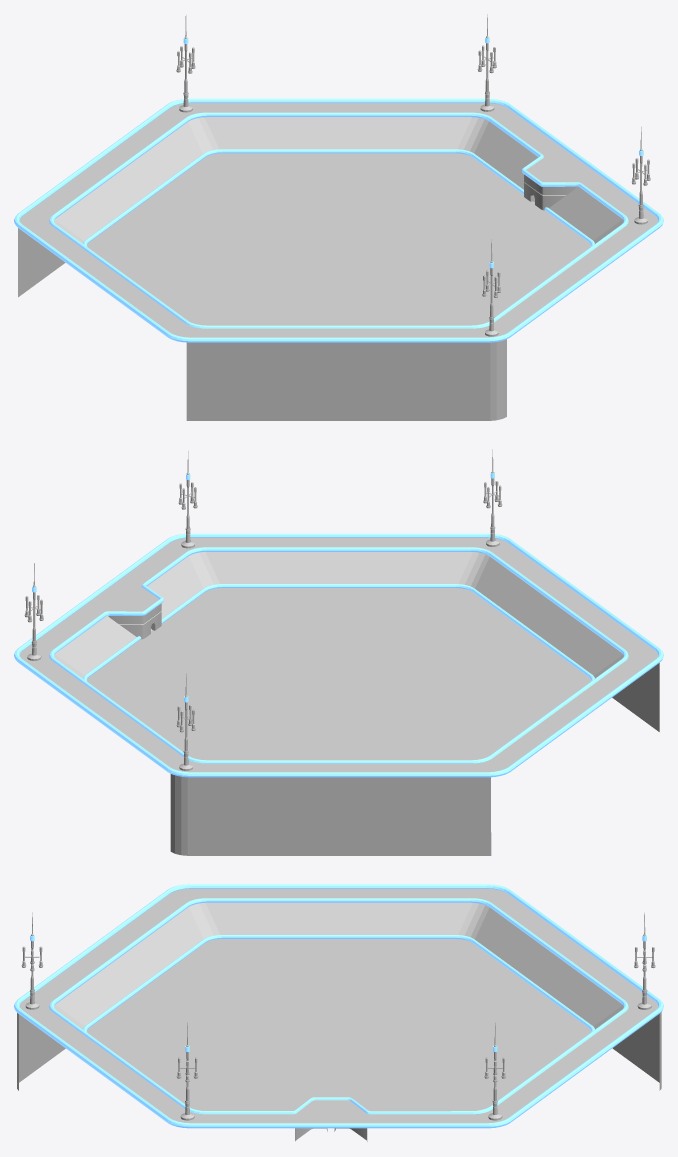
The model's file is SM_Training_base.fbx.
The picture shows the model from 3 angles, top to bottom: view 1: azimuth 30°, elevation 25°; view 2: azimuth 150°, elevation 25°; view 3: azimuth 270°, elevation 25°; orthographic projection.
Parts seen in each view (by area): view 1: Base Body, Base Lights EXT, Base Lights INT TOP, Base Lights INT BTM, Casetilla; view 2: Base Body, Base Lights EXT, Base Lights INT TOP, Base Lights INT BTM, Casetilla; view 3: Base Body, Base Lights EXT, Base Lights INT TOP, Base Lights INT BTM, Casetilla.
Boxes of the visible parts, x1=… form: Base Body: x1=18, y1=103, x2=658, y2=420; Base Lights EXT: x1=14, y1=98, x2=663, y2=342; Base Lights INT TOP: x1=49, y1=112, x2=628, y2=328; Base Lights INT BTM: x1=83, y1=149, x2=594, y2=246; Casetilla: x1=524, y1=157, x2=594, y2=210; Base Body: x1=19, y1=537, x2=659, y2=855; Base Lights EXT: x1=14, y1=533, x2=663, y2=777; Base Lights INT TOP: x1=49, y1=547, x2=628, y2=763; Base Lights INT BTM: x1=83, y1=584, x2=594, y2=681; Casetilla: x1=91, y1=586, x2=161, y2=639; Base Body: x1=17, y1=888, x2=661, y2=1123; Base Lights EXT: x1=14, y1=884, x2=663, y2=1128; Base Lights INT TOP: x1=49, y1=898, x2=628, y2=1114; Base Lights INT BTM: x1=83, y1=935, x2=594, y2=1032; Casetilla: x1=295, y1=1100, x2=367, y2=1141.
Bounding box in the file's own units: 350 × 119 × 399.
